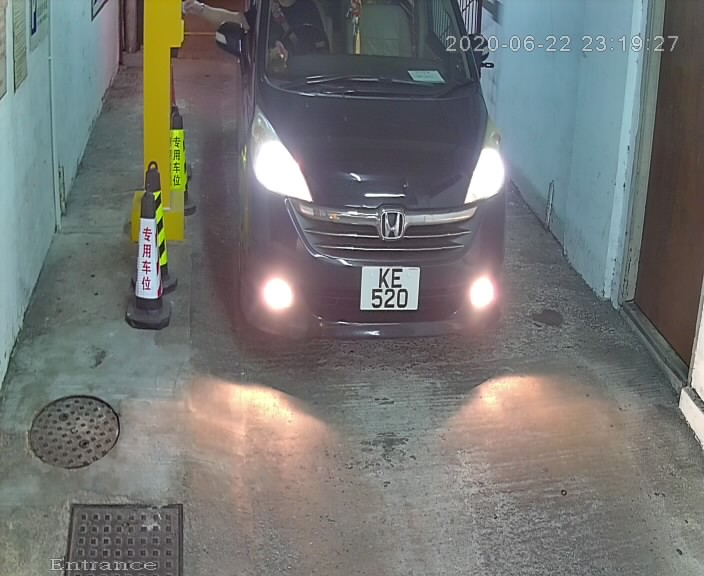privatecar: (207, 2, 519, 353)
